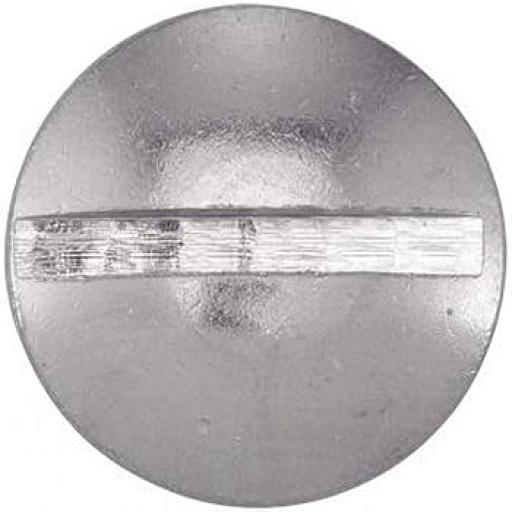Slotted: (7, 4, 506, 508)
